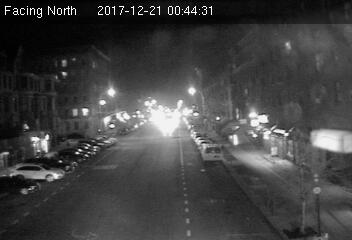truck: (201, 143, 223, 164)
